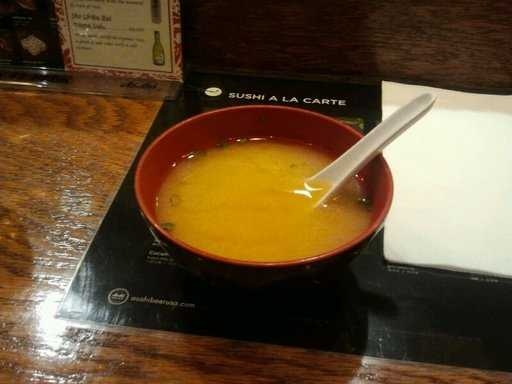soup: (142, 98, 402, 258)
